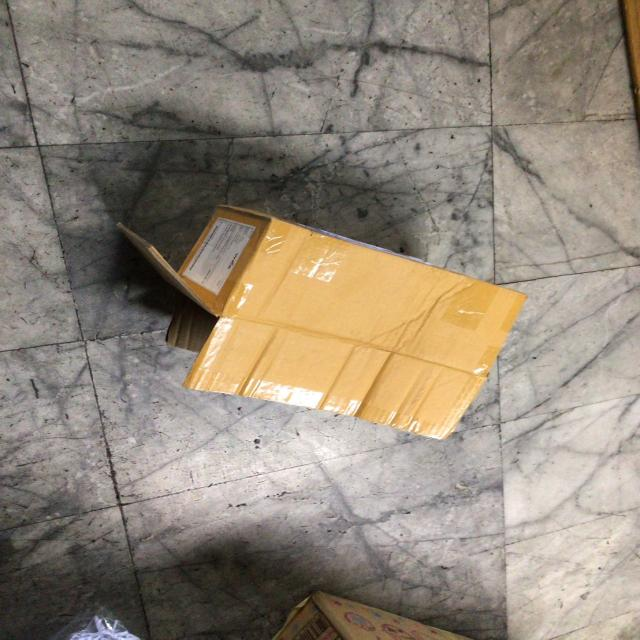cardboard: (112, 206, 527, 435)
